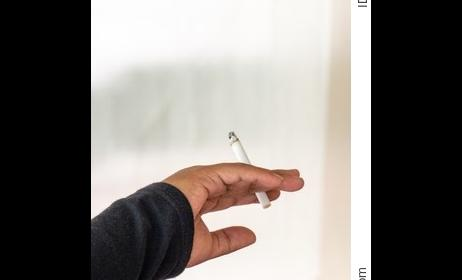Cigarette: (226, 130, 271, 206)
